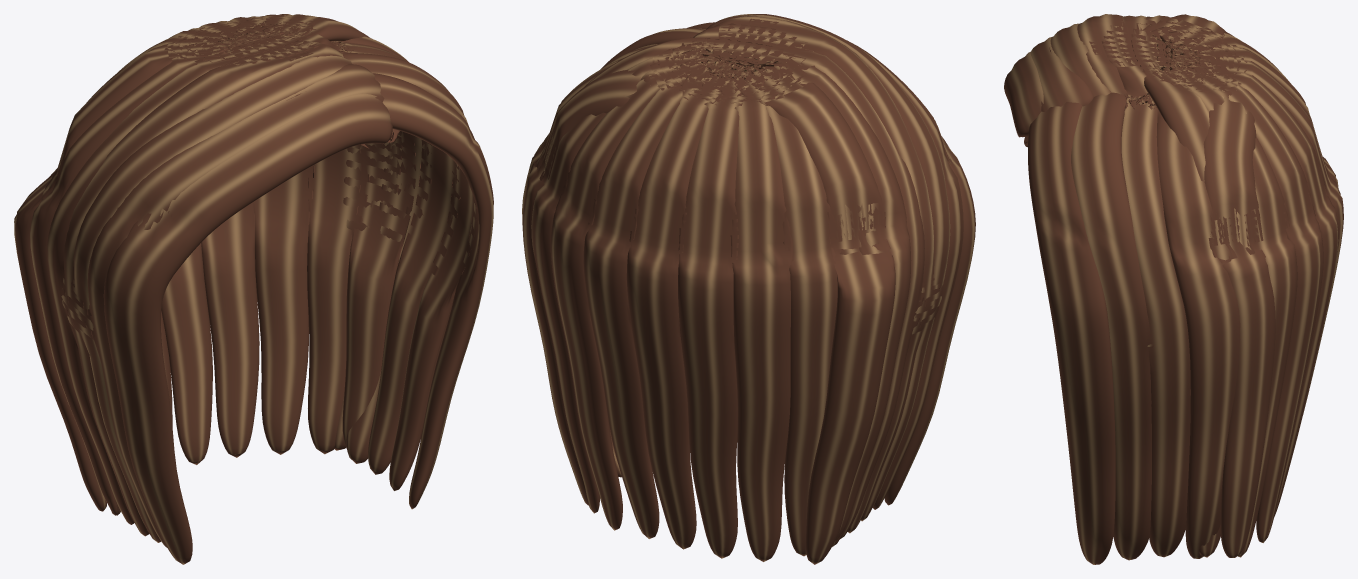
The model's file is Highlights-34017b98a9bc252-hair.glb.
The picture shows the model from 3 angles, left to right: view 1: azimuth 30°, elevation 25°; view 2: azimuth 150°, elevation 25°; view 3: azimuth 270°, elevation 25°; orthographic projection. The views are drawn at different scales.
Parts seen in each view (by area): view 1: 226 hair / Hair / sculpted 0.001, 226 hair / Hair / sculpted 1.002, 226 hair / Hair / sculpted 2.001; view 2: 226 hair / Hair / sculpted 0.001, 226 hair / Hair / sculpted 2.001, 226 hair / Hair / sculpted 1.002; view 3: 226 hair / Hair / sculpted 1.002, 226 hair / Hair / sculpted 2.001, 226 hair / Hair / sculpted 0.001.
Part boxes in pixels (x1,y1,x2,y2): 226 hair / Hair / sculpted 0.001: [14, 14, 460, 564]; 226 hair / Hair / sculpted 1.002: [47, 16, 493, 547]; 226 hair / Hair / sculpted 2.001: [30, 14, 476, 542]; 226 hair / Hair / sculpted 0.001: [550, 15, 975, 564]; 226 hair / Hair / sculpted 2.001: [522, 14, 950, 556]; 226 hair / Hair / sculpted 1.002: [522, 14, 963, 561]; 226 hair / Hair / sculpted 1.002: [1028, 15, 1338, 564]; 226 hair / Hair / sculpted 2.001: [1049, 15, 1343, 560]; 226 hair / Hair / sculpted 0.001: [1004, 14, 1338, 557].
Size of the model in its own units: 1.02 by 1.18 by 0.7803.
Materials: 4 (4 with a texture image).
